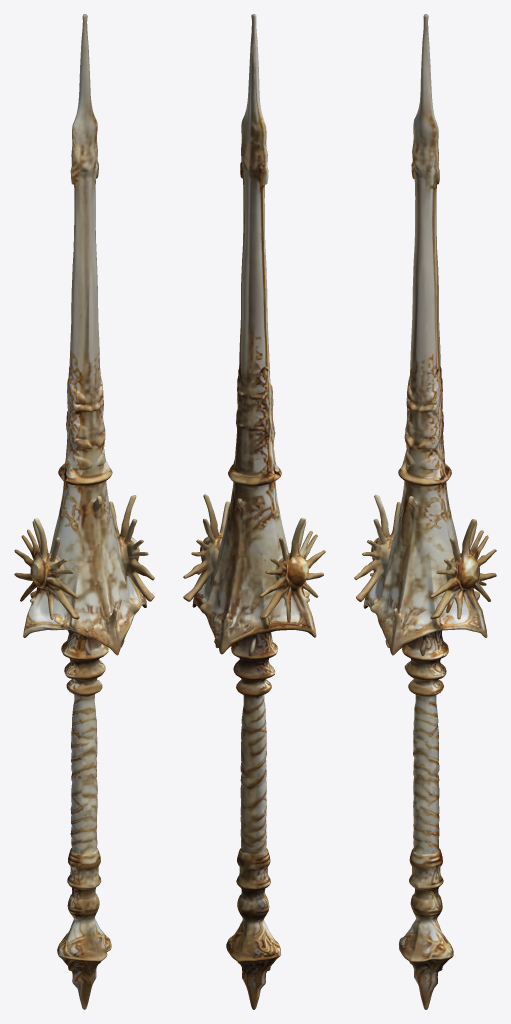
File: radiant_lance.glb
The picture shows the model from 3 angles, left to right: view 1: azimuth 30°, elevation 25°; view 2: azimuth 150°, elevation 25°; view 3: azimuth 330°, elevation 25°; orthographic projection.
Parts seen in each view (by area): view 1: radiant_lance; view 2: radiant_lance; view 3: radiant_lance.
Boxes of the visible parts, x1,y1,x2,y2 form: radiant_lance: (14, 14, 154, 1009); radiant_lance: (183, 14, 325, 1009); radiant_lance: (354, 14, 496, 1009).
Bounding box in the file's own units: 0.3893 × 3 × 0.3632.
Materials: 1 (1 with a texture image).
